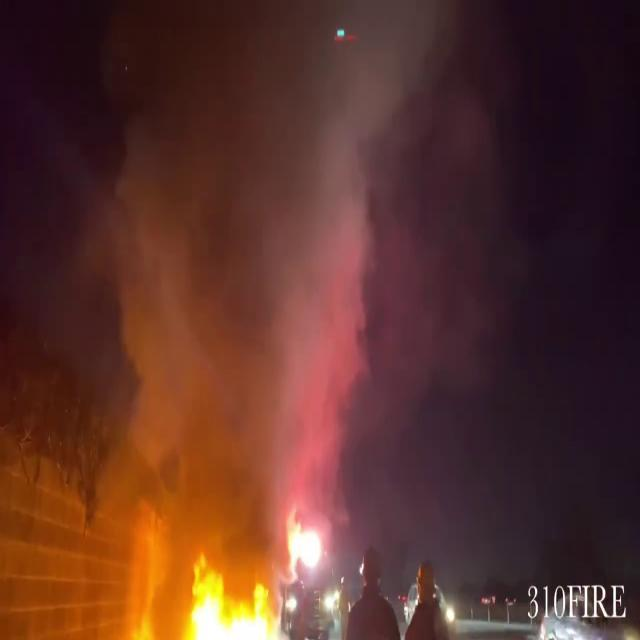Fire: (146, 557, 282, 640), (285, 507, 328, 582)
Smoke: (27, 0, 487, 524)
